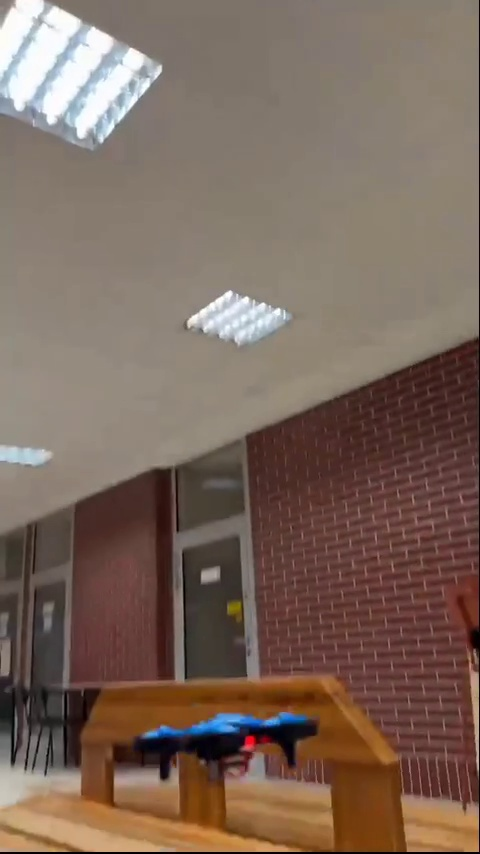drone: (140, 709, 327, 776)
